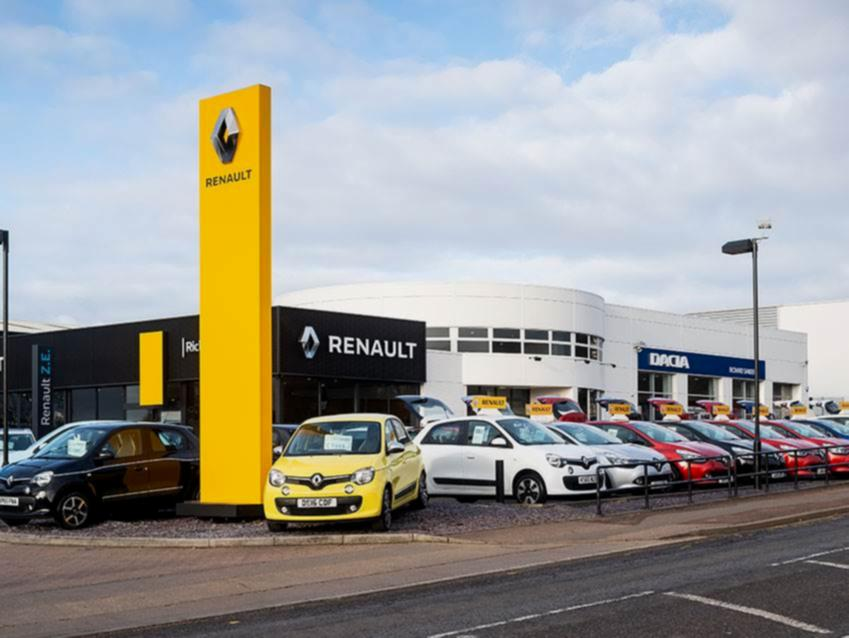Renault: (203, 98, 249, 169), (296, 319, 328, 365), (307, 469, 327, 492), (3, 472, 18, 491), (651, 456, 662, 474), (580, 455, 592, 470), (771, 452, 781, 463), (815, 448, 825, 459), (720, 455, 729, 467)
